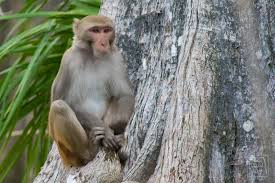monkey: (42, 7, 188, 171)
